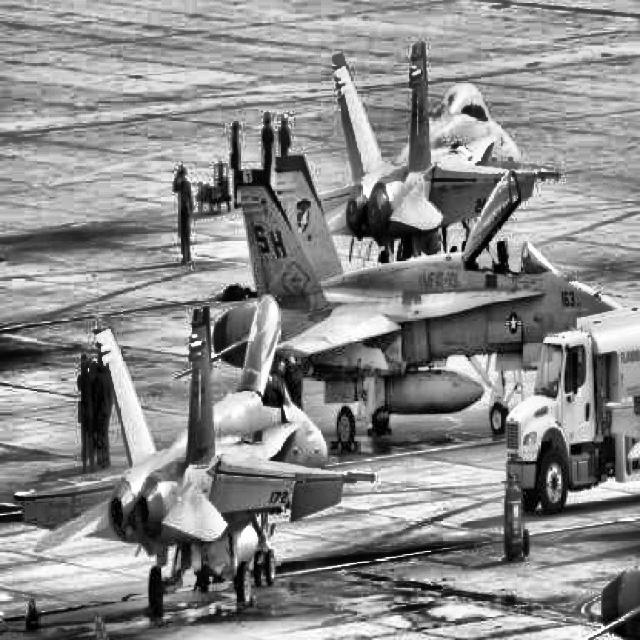F18: (175, 153, 622, 449), (13, 295, 376, 613), (318, 41, 519, 265)
